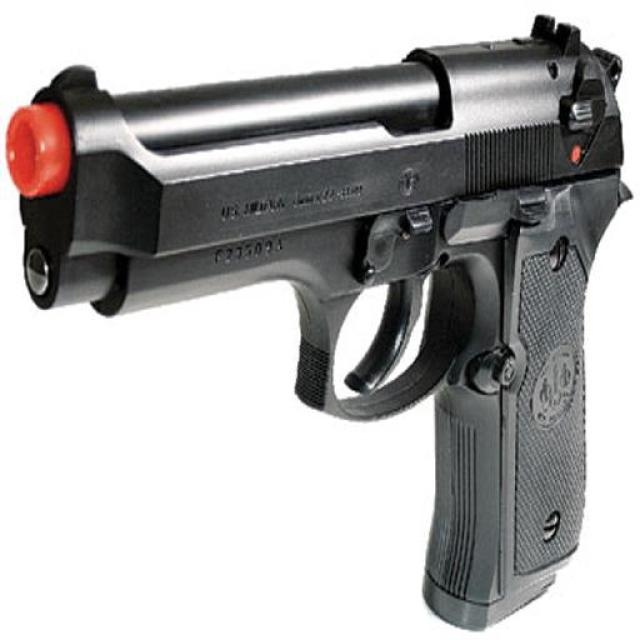pistol: (14, 20, 620, 616)
